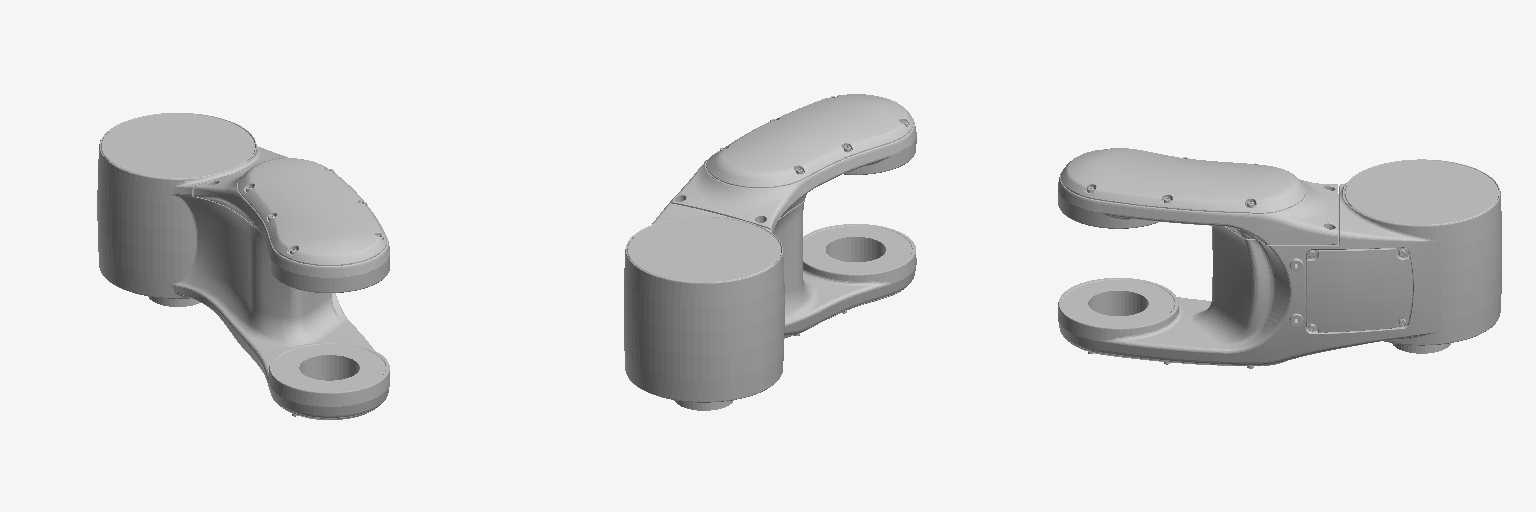
3 views of the same model, side by side, from view 1: azimuth 30°, elevation 25°; view 2: azimuth 150°, elevation 25°; view 3: azimuth 270°, elevation 25° (orthographic).
Parts seen in each view (by area): view 1: MeshBody1; view 2: MeshBody1; view 3: MeshBody1.
Part boxes in pixels (x1,y1,x2,y2): MeshBody1: (97,113,389,419); MeshBody1: (624,94,916,410); MeshBody1: (1058,148,1501,368).
Bounding box in the file's own units: 146 × 161 × 367.